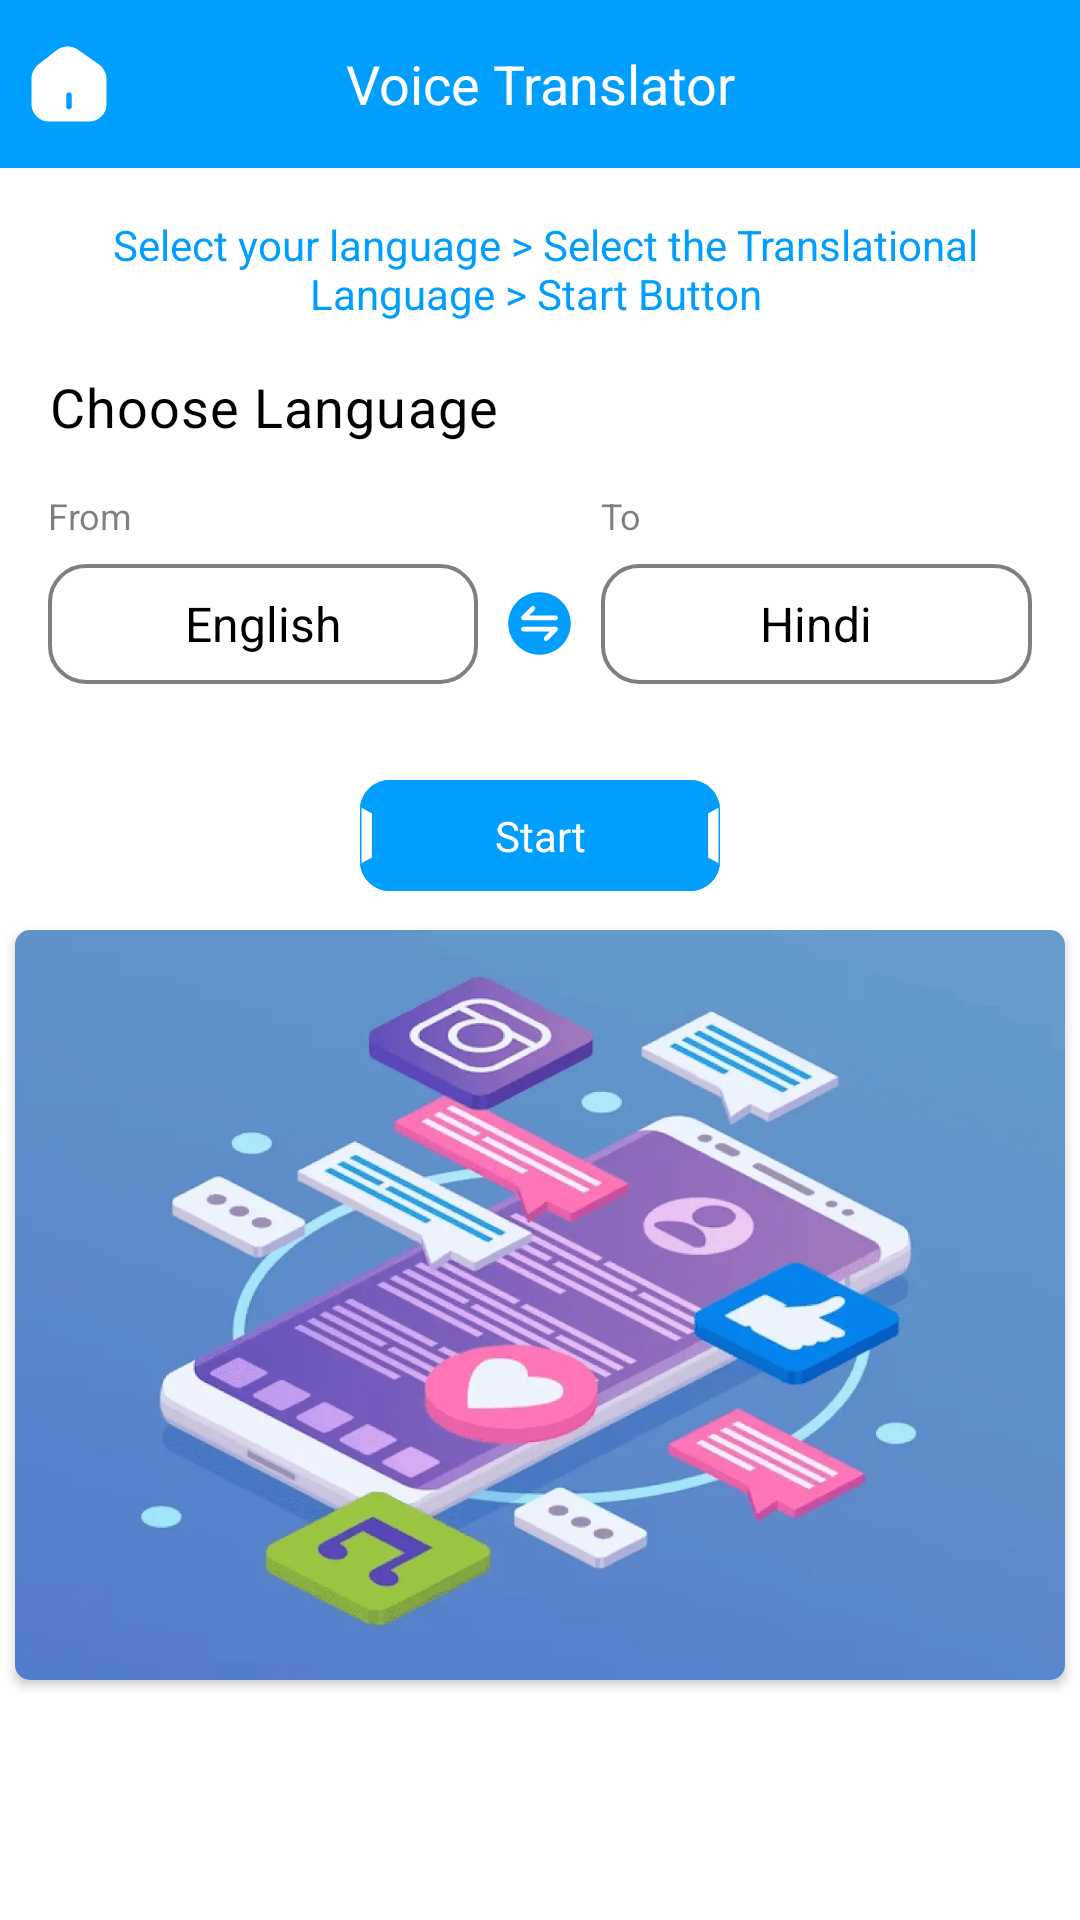

Where to tap for icons on this 1080x1920 app screen, as (x=x, y=y):
home: (x=69, y=84)
swap: (x=539, y=623)
